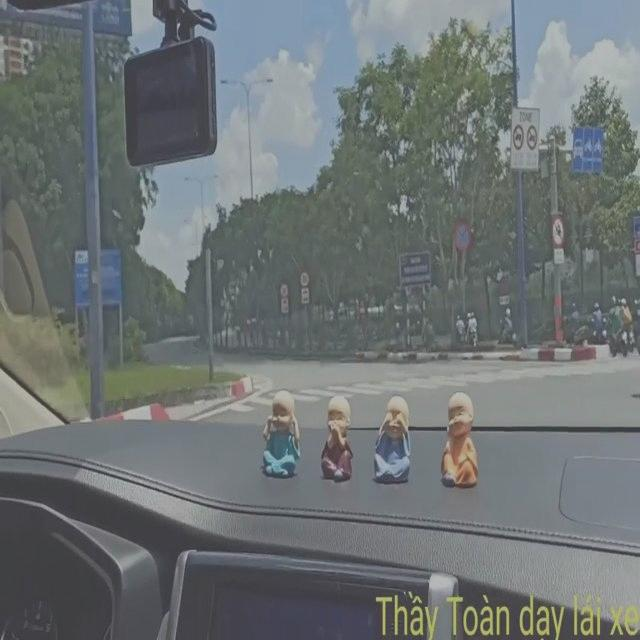Biển phụ: (548, 243, 565, 265), (300, 286, 309, 304), (280, 298, 288, 310)
Cấm các phương tiện hoạt động trong khung giờ cố định: (510, 102, 539, 173)
Cấm dừng - Cấm đỗ: (453, 215, 471, 253)
Cấm xe máy: (550, 212, 565, 245)
Giới hạn tốc độ: 60Km/h: (279, 276, 290, 297)
Giới hạn tốc độ: 80Km/h: (296, 263, 310, 287)
Khác: (71, 243, 122, 310), (398, 251, 431, 284)
Làn đường cho từng xe: (573, 123, 605, 174)
